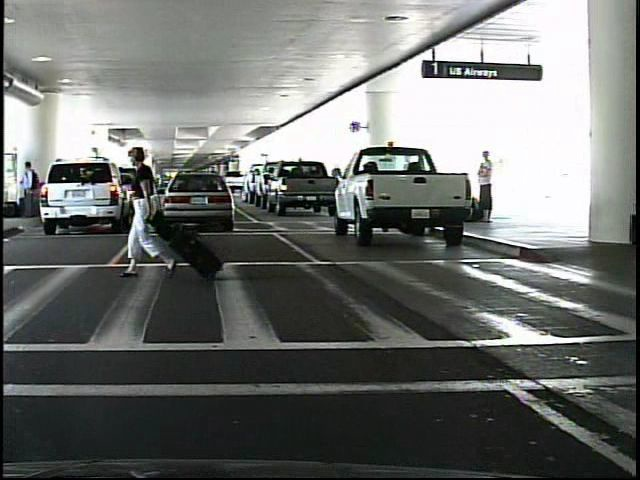person: (126, 147, 186, 283), (471, 152, 506, 224), (22, 159, 41, 220)
